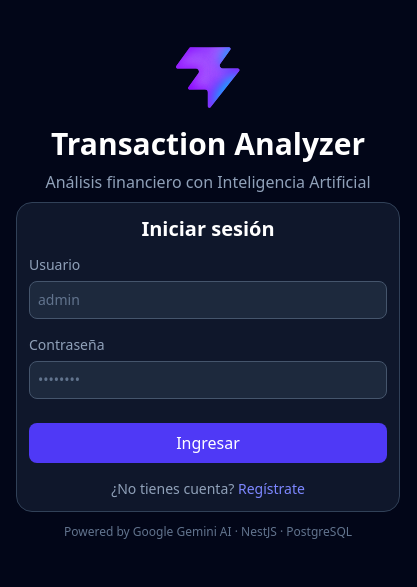
Scenario: LoginPage › shows error when username is empty
Click the button "Ingresar": (208, 443) left=29, top=423, right=387, bottom=463
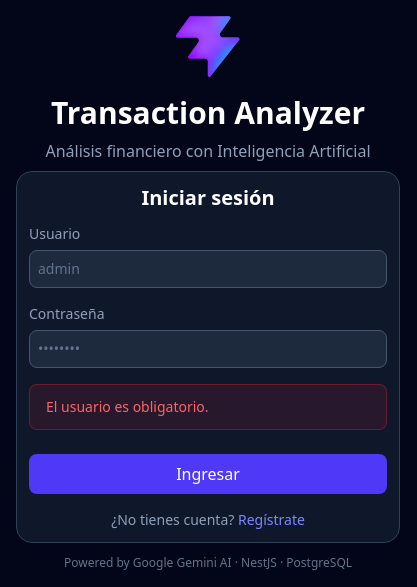
expect the text "El usuario es obligatorio." is shown: met, box left=29, top=384, right=387, bottom=430
